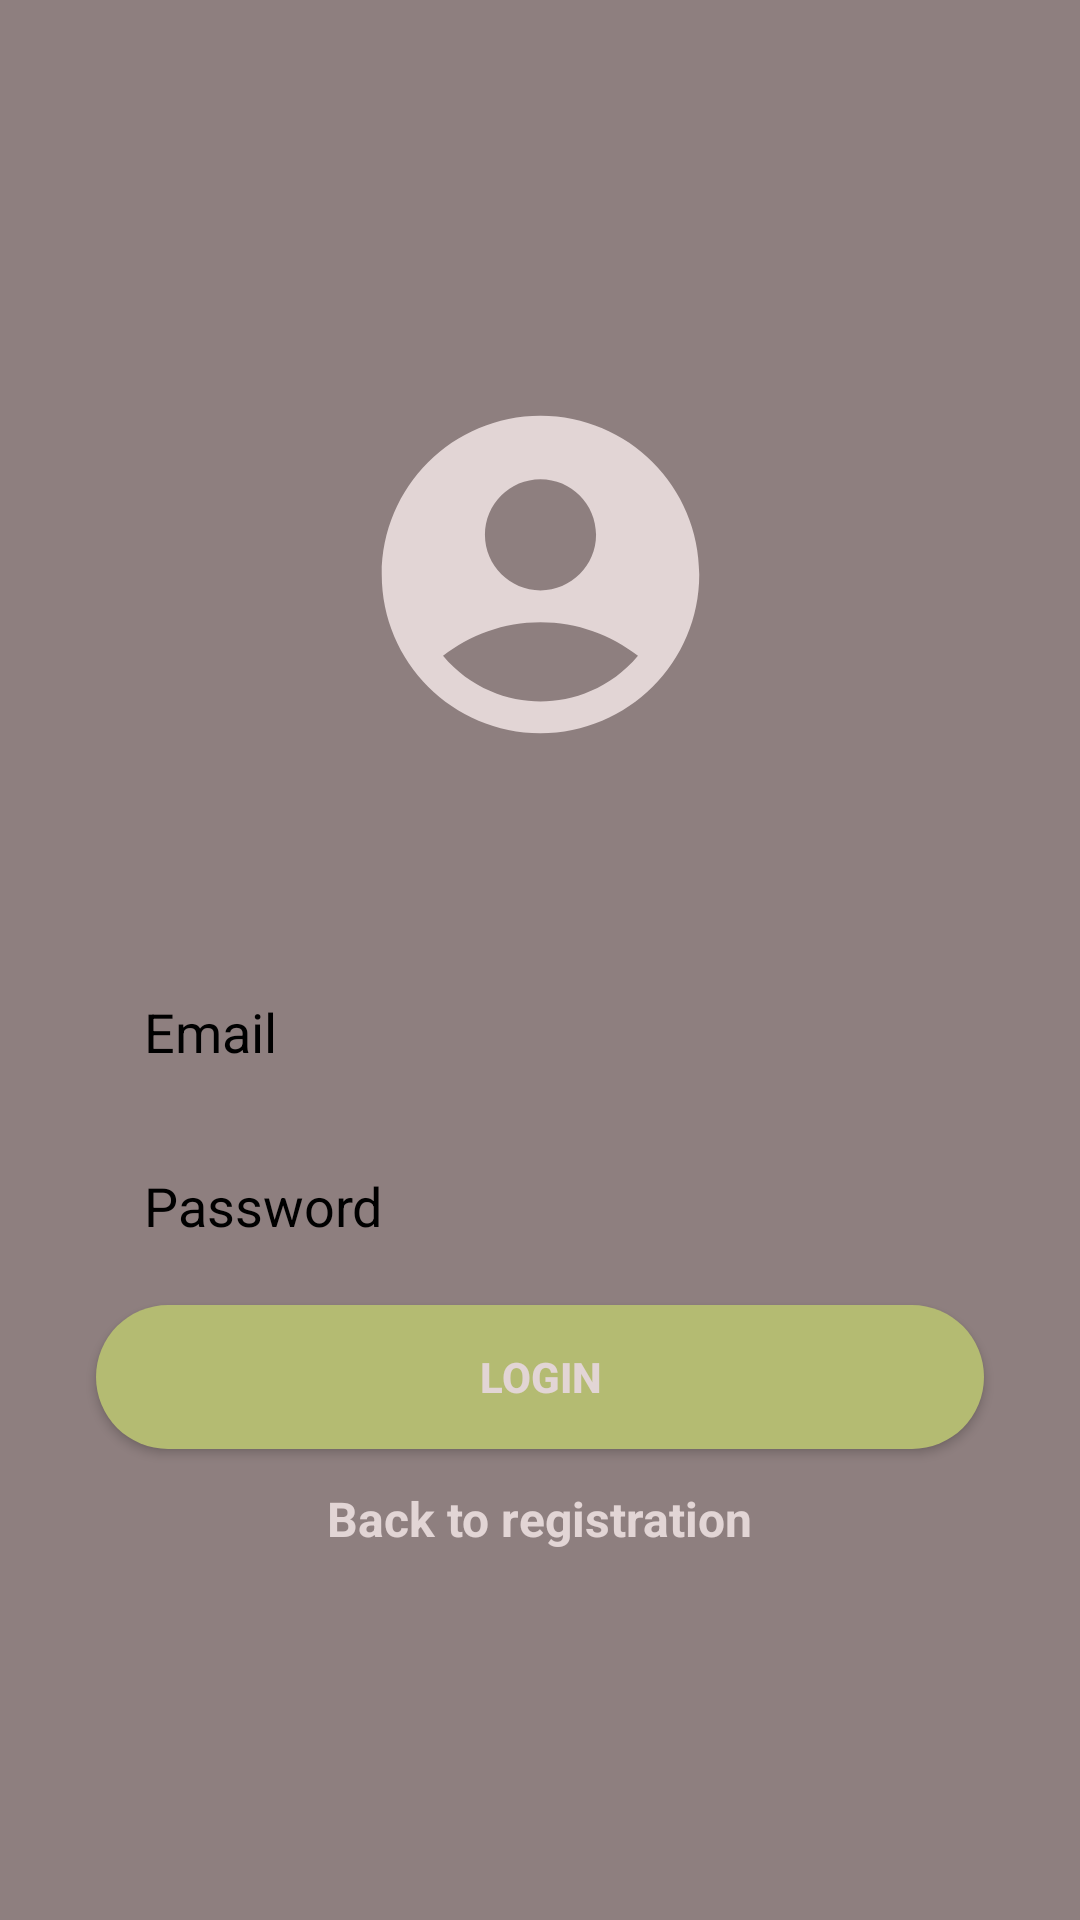

Named icons in this screenshot (1080 × 1920) and their centers, (x=x, y=y):
account login: (x=540, y=574)
